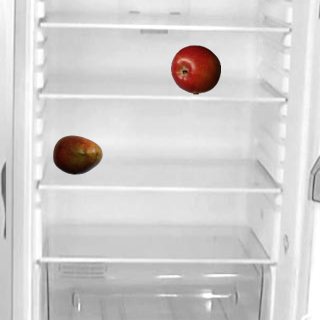Apple Braeburn: (170, 44, 220, 94)
Mango Red: (52, 129, 102, 179)
